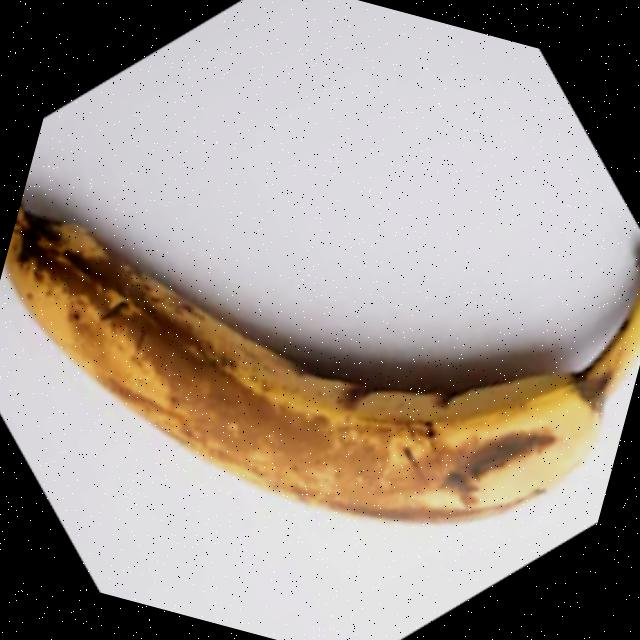overripe: (0, 168, 640, 581)
